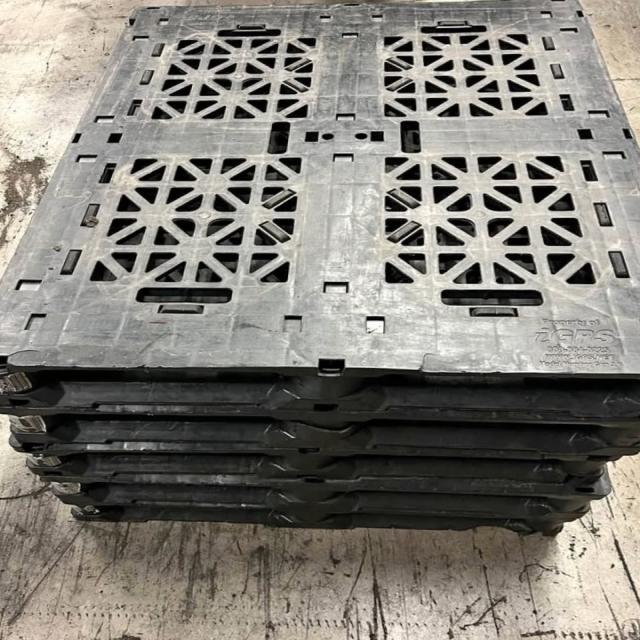igps: (1, 0, 639, 551)
